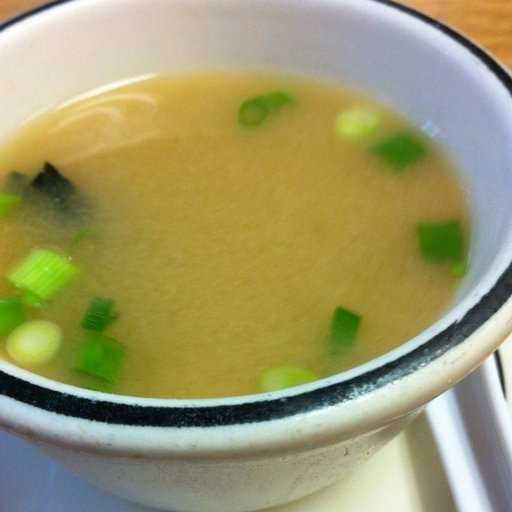soup: (1, 24, 473, 410)
